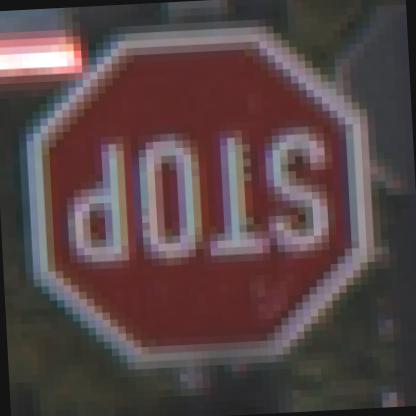stop: (20, 13, 380, 390)
